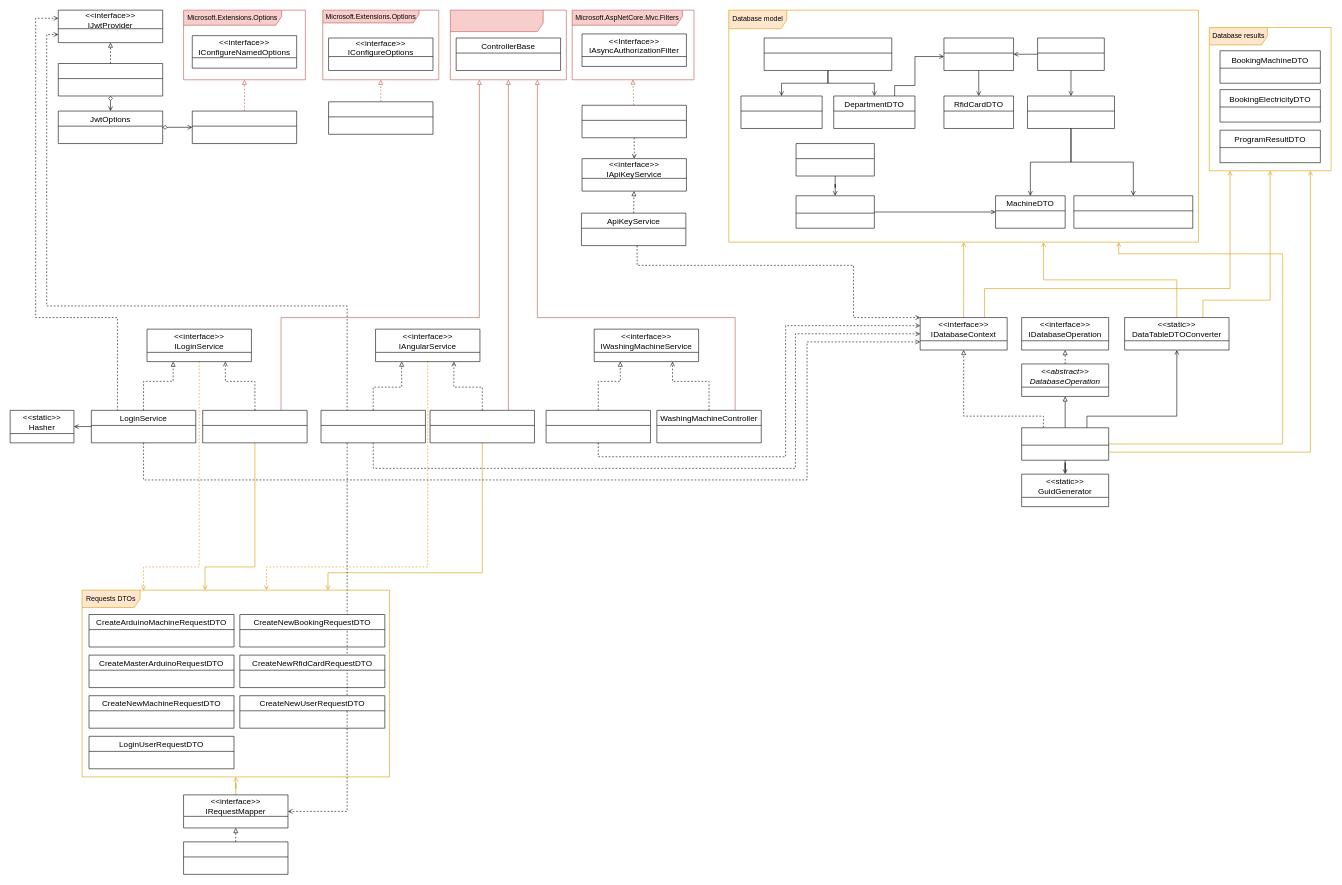
The diagram is 1342 pixels wide and 885 high, and some of its shapes have lost their labels. Each missing label, with the centre of its shape:
AngularController: (481,426)
AngularService: (372,426)
ApiKeyAuthorizationFilter: (633,121)
ArduinoMacineDTO: (834,211)
BookingDTO: (1070,53)
DatabaseContext: (1065,443)
DepartmentElectricityPriceDTO: (828,53)
ElectricityPriceDTO: (781,111)
JwtBearerOptionsSetup: (244,127)
JwtOptionsSetup: (380,117)
JwtProvider: (110,79)
LoginController: (254,426)
MachineProgramDTO: (1070,111)
MasterArduinoDTO: (834,159)
Microsoft.AspNetCore.Mvc class: (508,45)
RequestMapper: (235,857)
UserDTO: (978,53)
WashingMachineProgramDTO: (1133,211)
WashingMachineService: (597,426)
